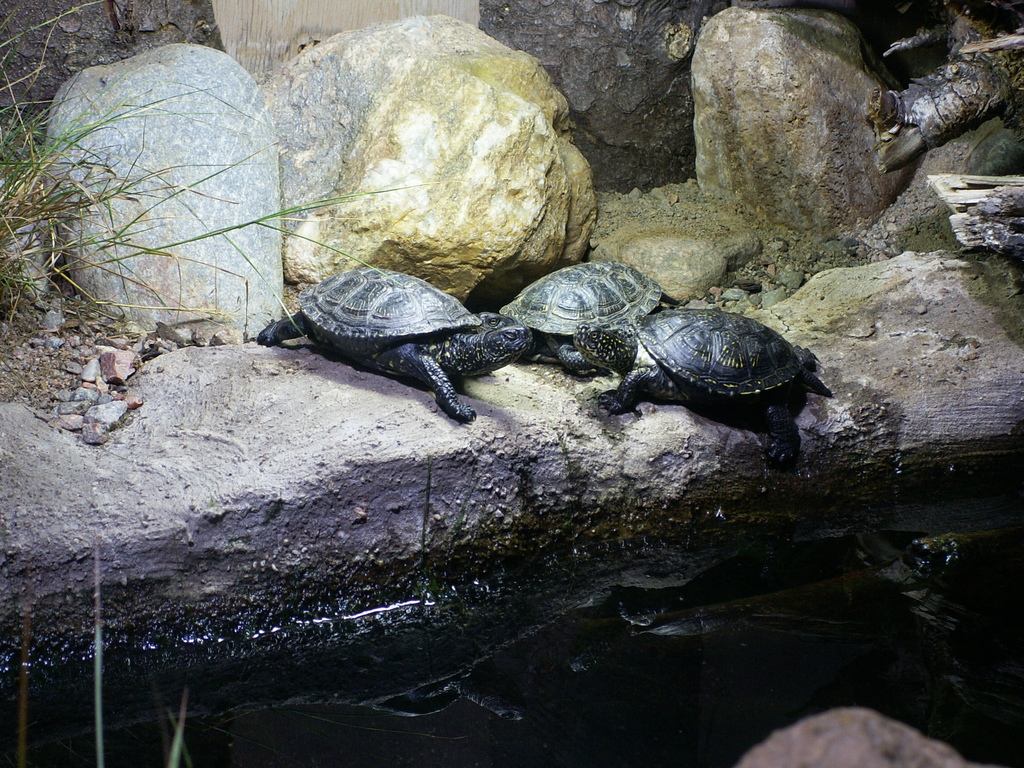Sea turtles: (257, 252, 558, 428), (567, 301, 831, 460), (491, 256, 667, 379)
